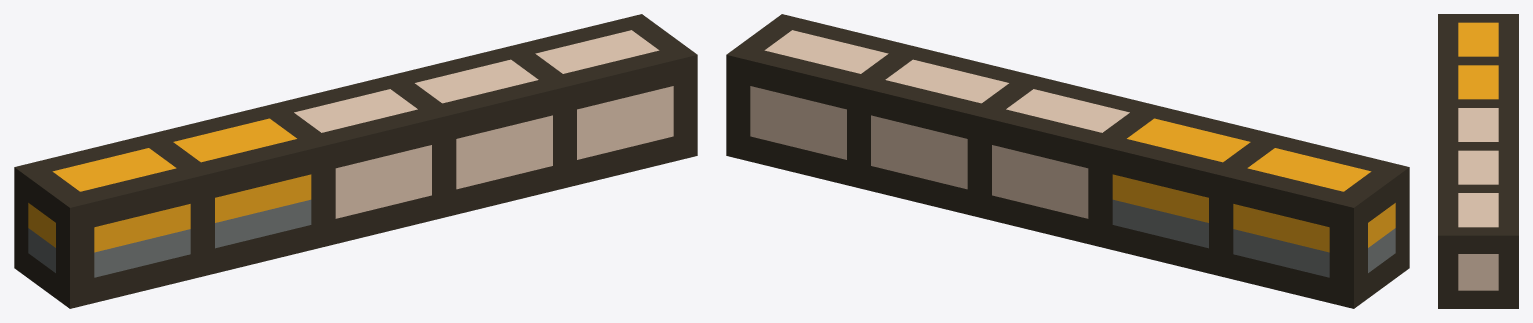
The model's file is meter_2.gltf.
The picture shows the model from 3 angles, left to right: view 1: azimuth 30°, elevation 25°; view 2: azimuth 150°, elevation 25°; view 3: azimuth 270°, elevation 25°; orthographic projection. The views are drawn at different scales.
Bounding box in the file's own units: 2.6 × 0.4 × 0.4.
1 material, 1 textured.
